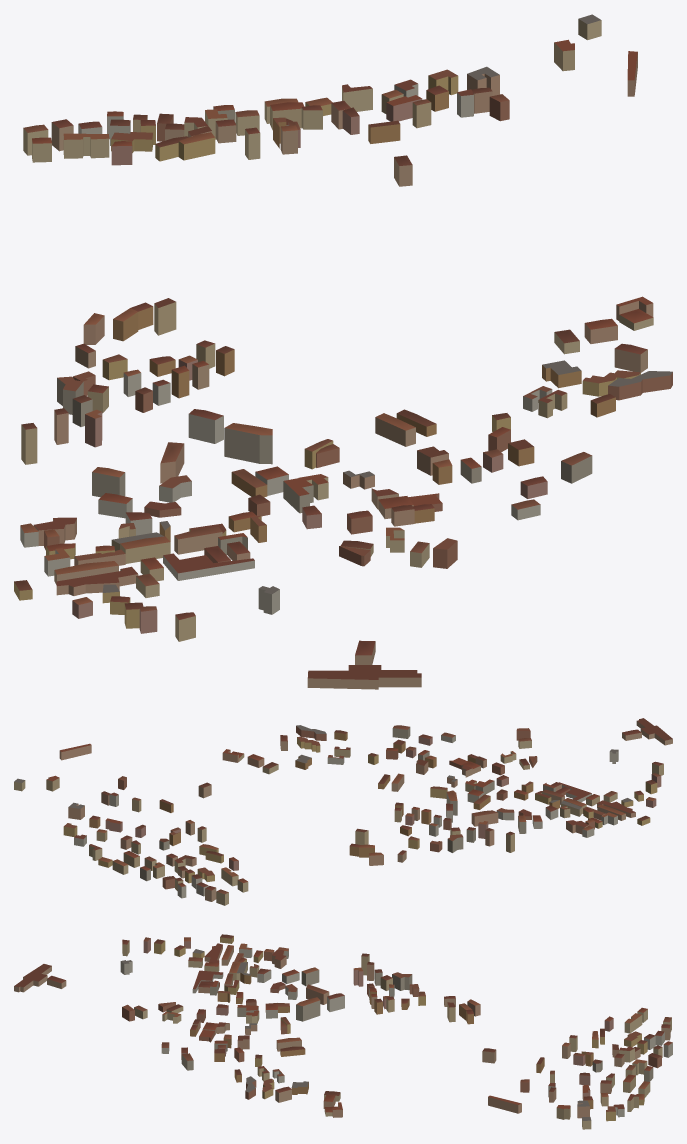
Rendered from SM_Fondale_Citta_Colle_06_LOD1.fbx.
3 renders of one model, top to bottom at view 1: azimuth 30°, elevation 25°; view 2: azimuth 150°, elevation 25°; view 3: azimuth 270°, elevation 25°, orthographic. The views are drawn at different scales.
Parts seen in each view (by area): view 1: SM_Fondale_Citta_Colle_06_LOD1; view 2: SM_Fondale_Citta_Colle_06_LOD1; view 3: SM_Fondale_Citta_Colle_06_LOD1.
Boxes of the visible parts, box(x1,y1,x2,y2) form: SM_Fondale_Citta_Colle_06_LOD1: box(14, 14, 672, 689); SM_Fondale_Citta_Colle_06_LOD1: box(14, 718, 672, 905); SM_Fondale_Citta_Colle_06_LOD1: box(14, 934, 672, 1129).
Bounding box in the file's own units: 88147 × 102277 × 11736.
